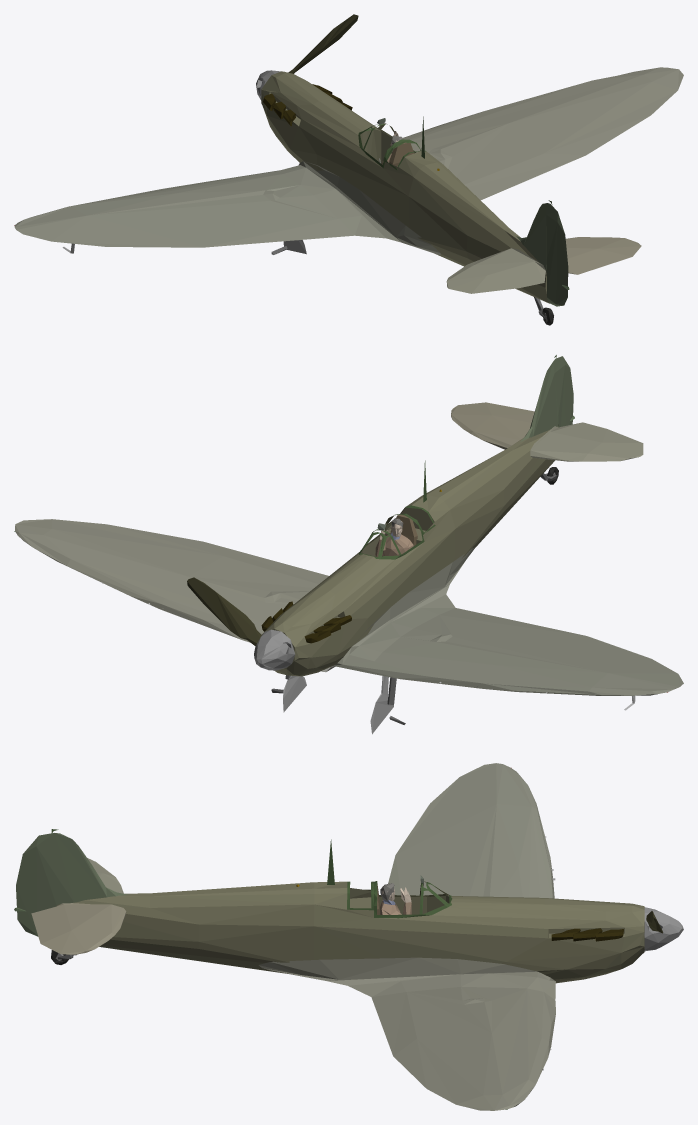
The model's file is spitfire_lod.glb.
3 views of the same model, one above another, from view 1: azimuth 30°, elevation 25°; view 2: azimuth 150°, elevation 25°; view 3: azimuth 270°, elevation 25° (orthographic). The views are drawn at different scales.
Visible parts, largest first — view 1: body; view 2: body; view 3: body.
Part boxes in pixels (x1,y1,x2,y2): body: (14,14,683,325); body: (14,355,683,734); body: (14,763,683,1110).
Size of the model in its own units: 11.19 by 3.27 by 9.12.
